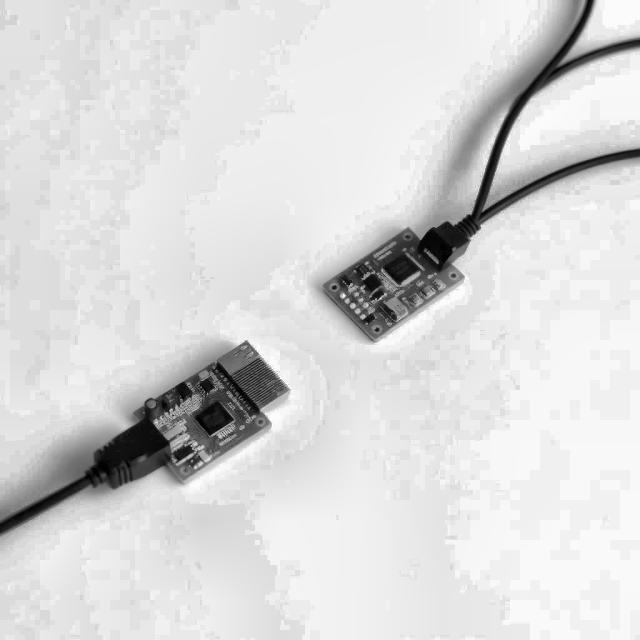Cable: (460, 0, 640, 269), (0, 413, 171, 551)
PCB: (129, 331, 288, 487), (320, 220, 467, 344)
